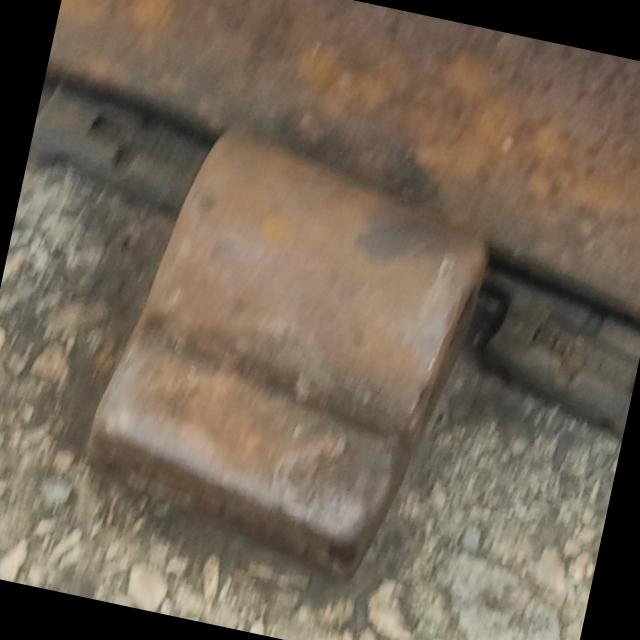track_bolt_missing: (118, 101, 507, 458)
